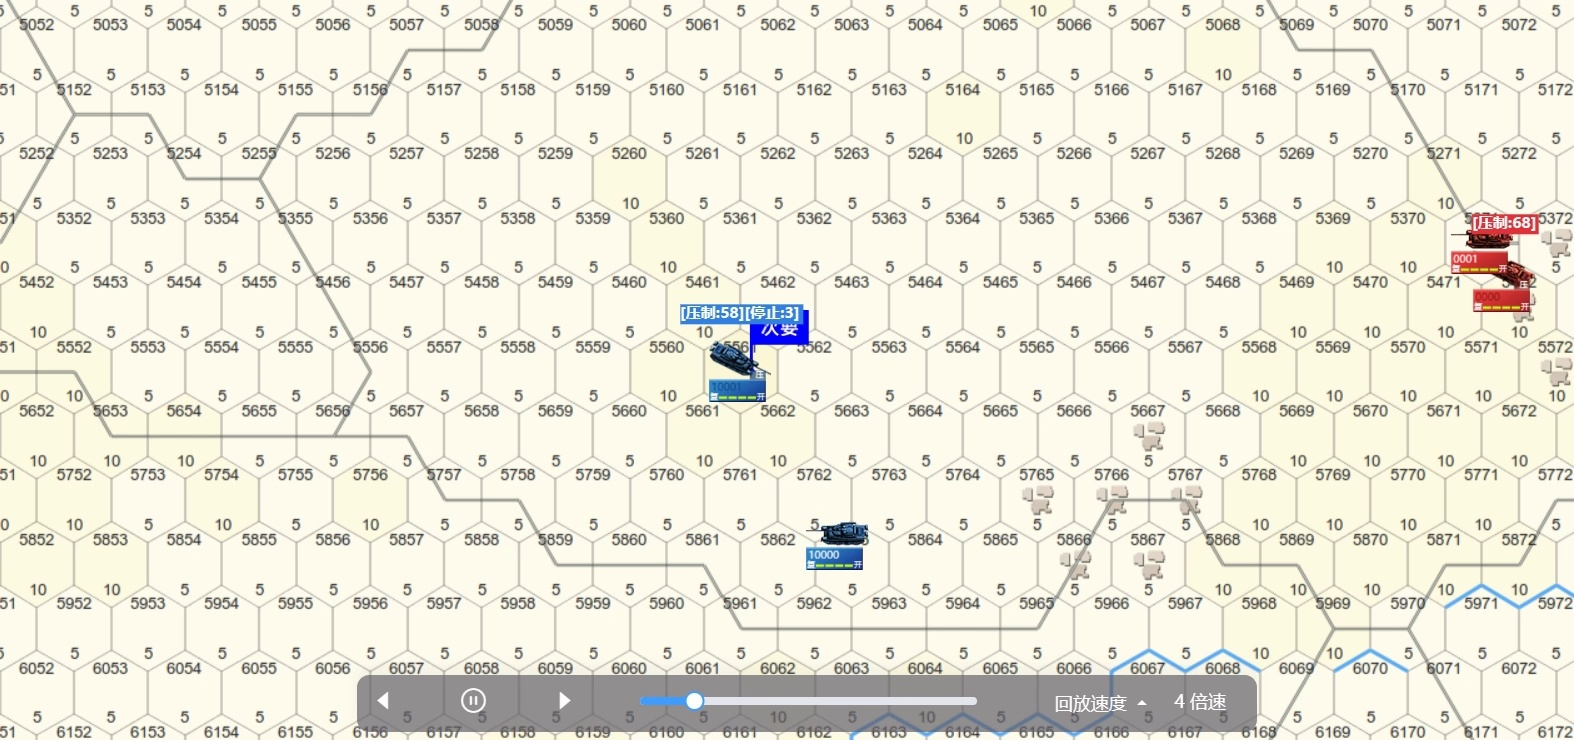blue_tank: (708, 339, 769, 403), (812, 516, 861, 567)
red_tank: (1477, 270, 1530, 315), (1452, 235, 1518, 270)
